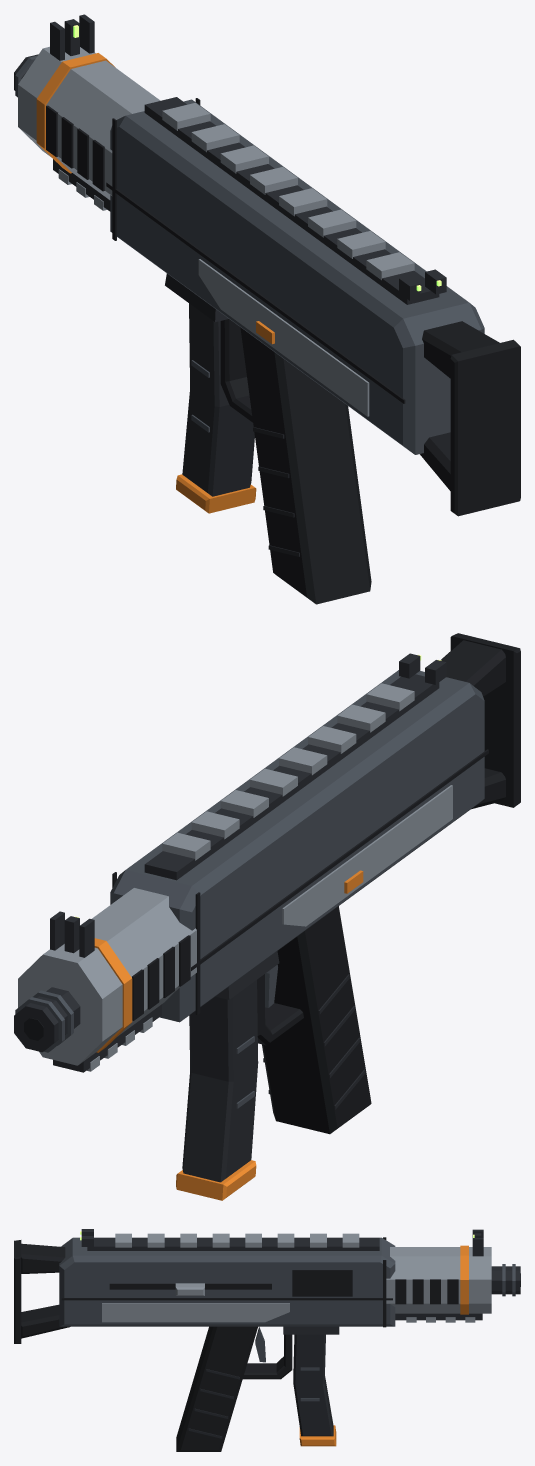
File: smg.glb
The picture shows the model from 3 angles, top to bottom: view 1: azimuth 30°, elevation 25°; view 2: azimuth 150°, elevation 25°; view 3: azimuth 270°, elevation 25°; orthographic projection. The views are drawn at different scales.
Parts seen in each view (by area): view 1: Body, Magazine; view 2: Body, Magazine; view 3: Body, Magazine, Bolt, Trigger.
Part boxes in pixels (box(x1,y1,x2,y2)): Body: box(14, 14, 520, 604); Magazine: box(176, 303, 256, 513); Body: box(14, 633, 520, 1134); Magazine: box(176, 980, 258, 1200); Body: box(14, 1229, 520, 1451); Magazine: box(293, 1334, 336, 1446); Bolt: box(175, 1283, 204, 1295); Trigger: box(255, 1327, 265, 1362).
Size of the model in its own units: 0.0622 by 0.2075 by 0.4528.
